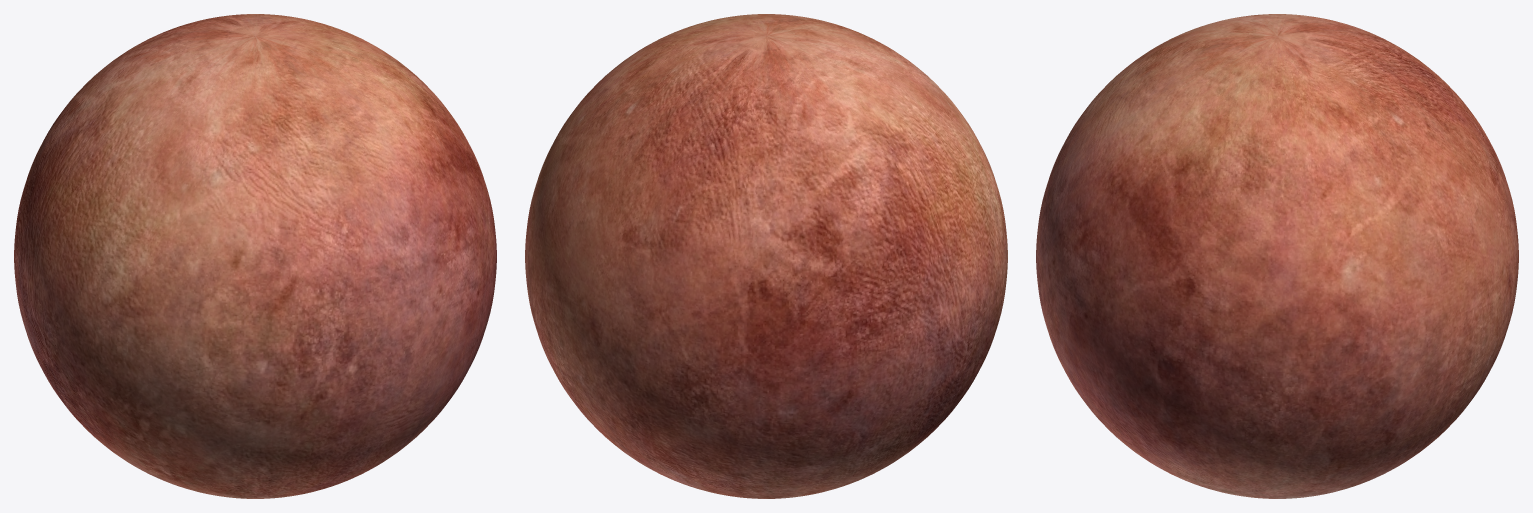
The model's file is makemake.glb.
The picture shows the model from 3 angles, left to right: view 1: azimuth 30°, elevation 25°; view 2: azimuth 150°, elevation 25°; view 3: azimuth 270°, elevation 25°; orthographic projection.
Visible parts, largest first — view 1: Sphere_0; view 2: Sphere_0; view 3: Sphere_0.
Boxes of the visible parts, x1,y1,x2,y2 form: Sphere_0: [14, 14, 496, 498]; Sphere_0: [525, 14, 1007, 498]; Sphere_0: [1036, 14, 1518, 498].
Bounding box in the file's own units: 1.99 × 2 × 1.99.
Materials: 1 (1 with a texture image).
